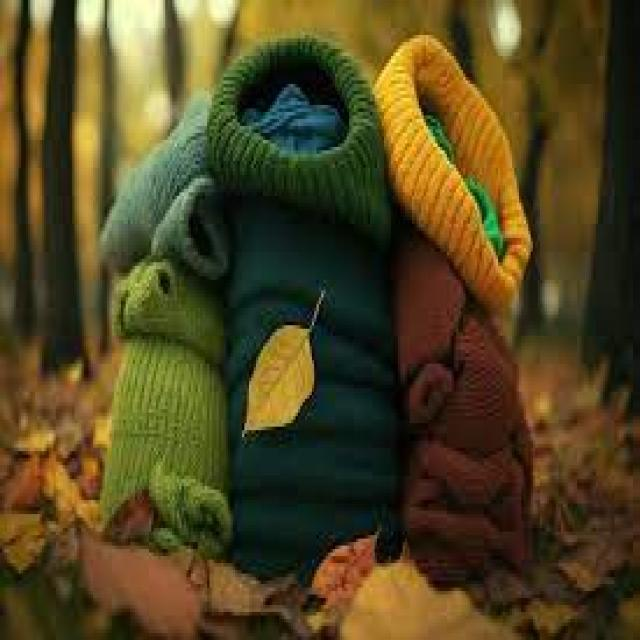Clothes -Biodegradable-: (100, 34, 535, 595)
